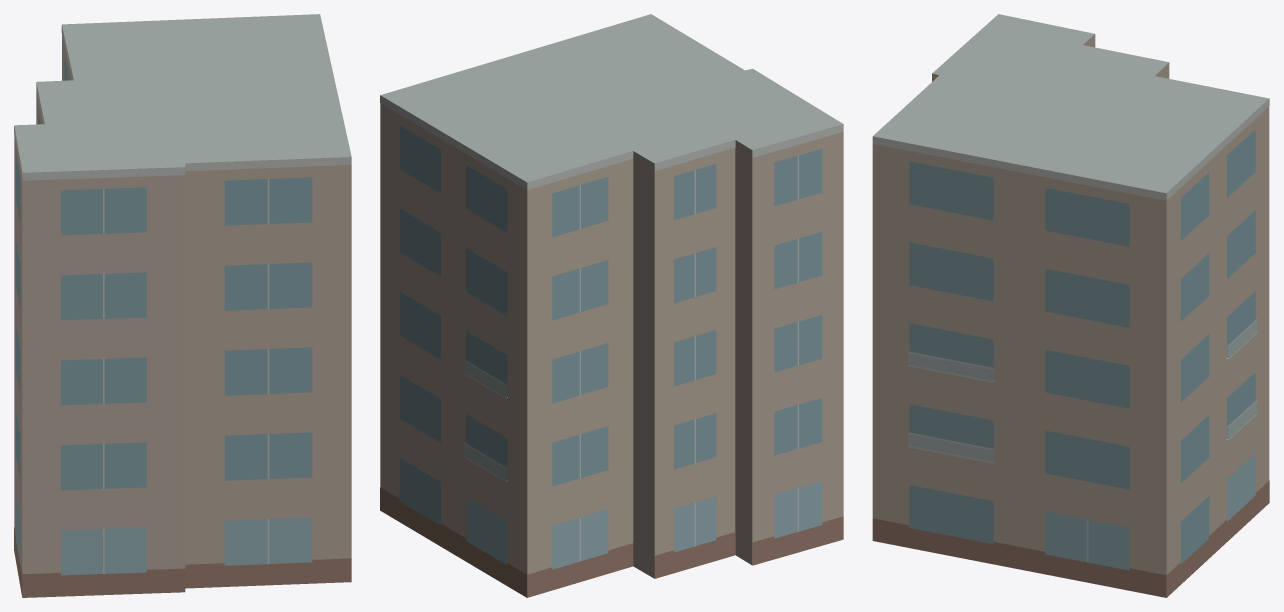
File: survey-upis-32926797.glb
The picture shows the model from 3 angles, left to right: view 1: azimuth 30°, elevation 25°; view 2: azimuth 150°, elevation 25°; view 3: azimuth 270°, elevation 25°; orthographic projection. The views are drawn at different scales.
Visible parts, largest first — view 1: survey-upis-32926797.tmp; view 2: survey-upis-32926797.tmp; view 3: survey-upis-32926797.tmp.
Part boxes in pixels (left/top/right/bottom): survey-upis-32926797.tmp: left=14, top=14, right=351, bottom=597; survey-upis-32926797.tmp: left=380, top=14, right=843, bottom=597; survey-upis-32926797.tmp: left=872, top=14, right=1269, bottom=597.
Bounding box in the file's own units: 12.46 × 13.1 × 11.65.
